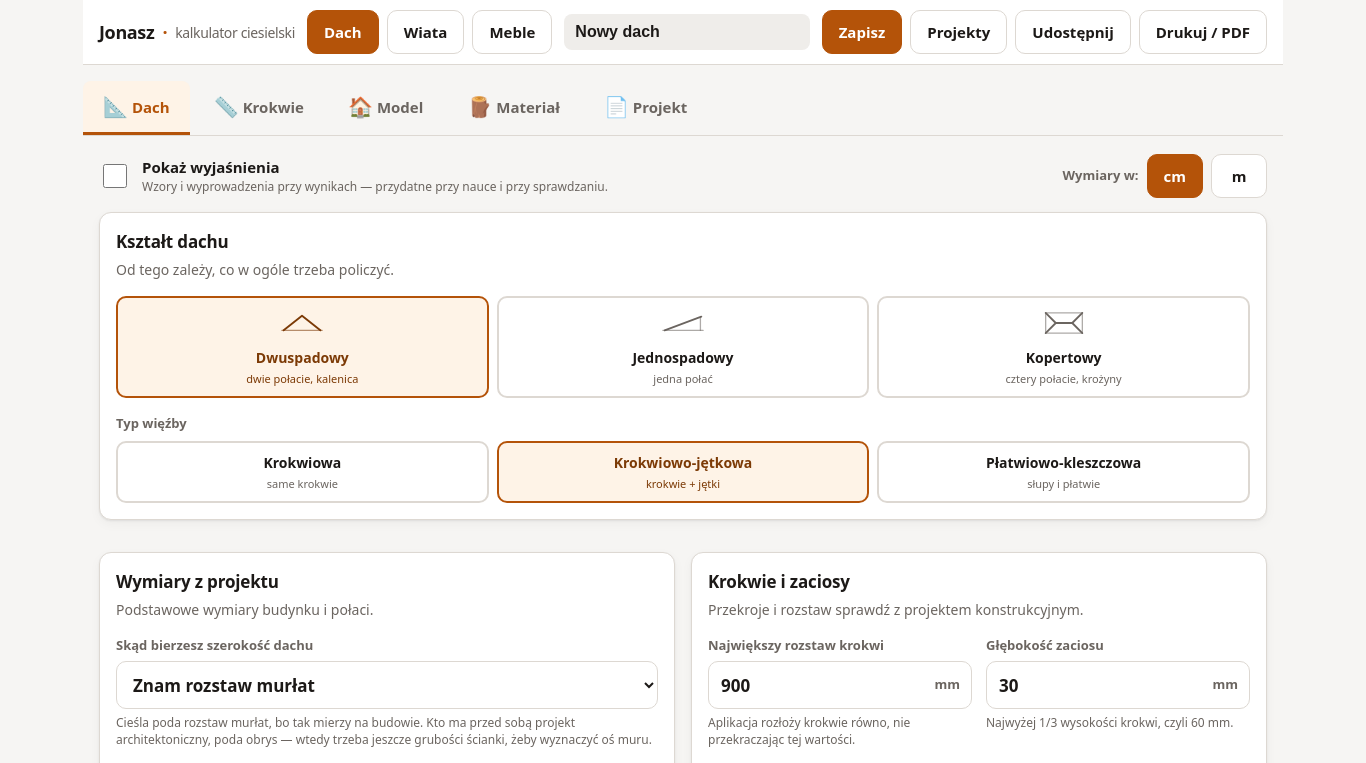
aplikacja jako całość › pokazuje zestawienie materiału z listą zakupów
The width and height of the screenshot is (1366, 763).
What coordinates should you click on to do the following:
click the tab "🪵 Materiał"
I would click on:
 (514, 108)
Its box is x1=447 y1=81 x2=580 y2=135.
(page scrolled)
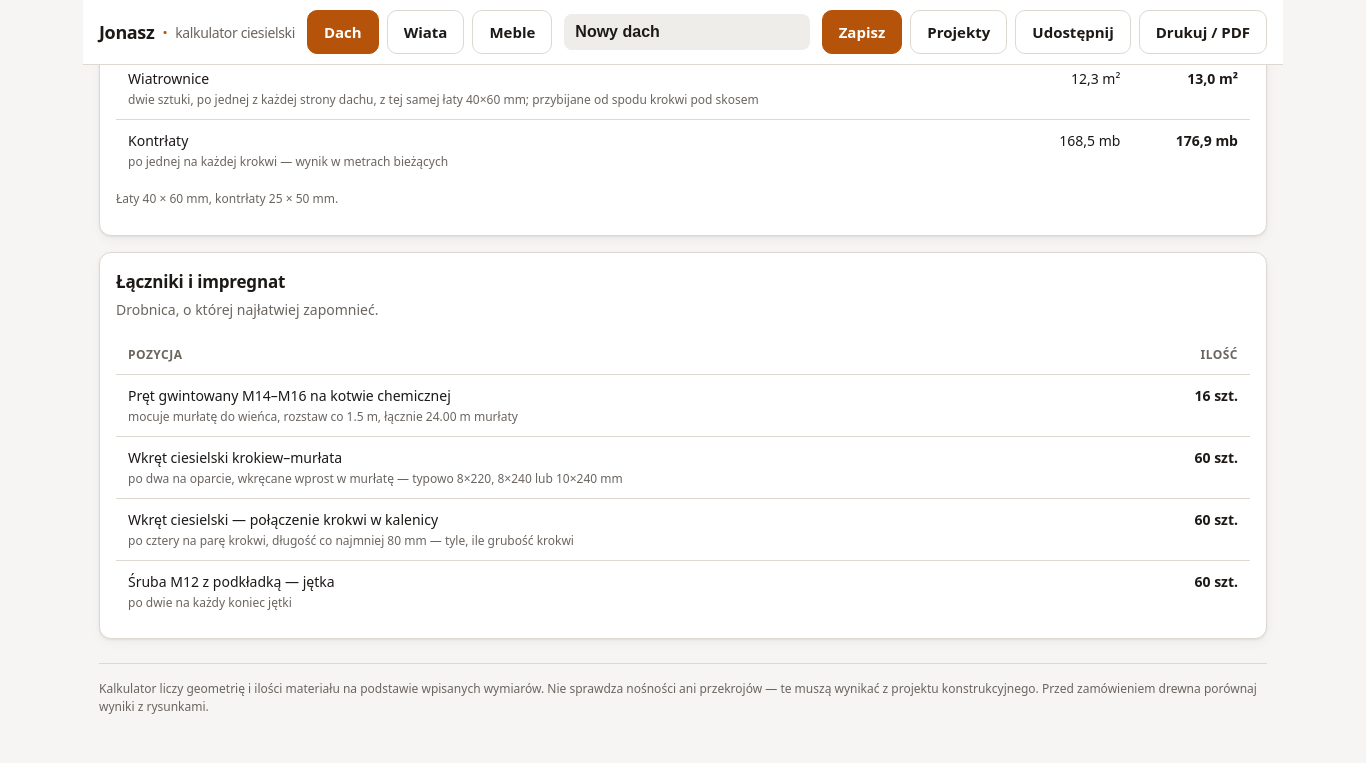
Expected: the text "Wkręt ciesielski krokiew–murłata" is shown, x1=128 y1=448 x2=342 y2=467
